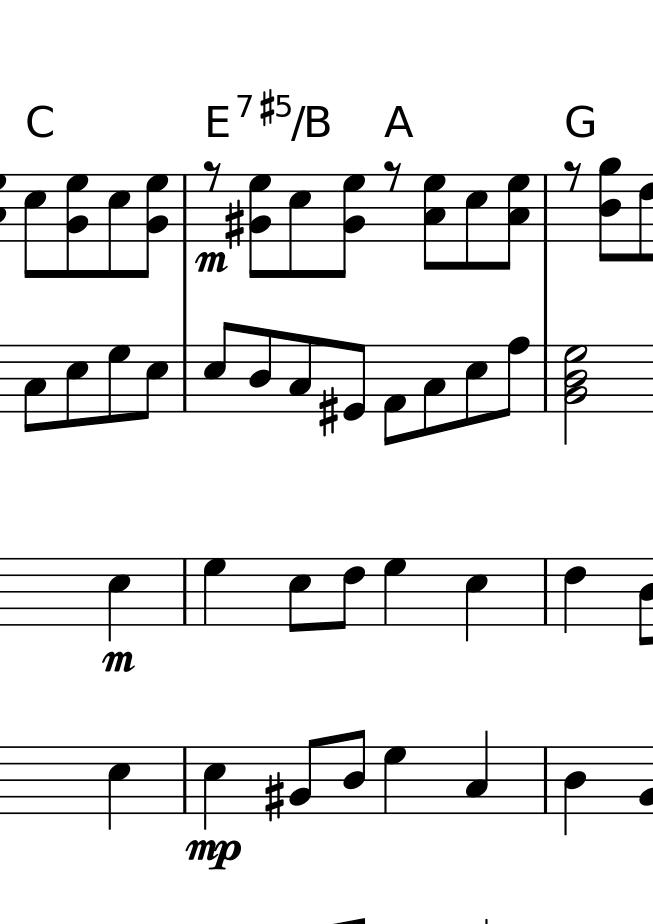4_3: (464, 732, 490, 814)
4_3_7: (497, 172, 530, 269), (423, 174, 447, 271)
4_4: (562, 748, 586, 836)
4_4_9: (598, 157, 623, 264)
4_5: (463, 559, 489, 643), (202, 744, 226, 834), (107, 556, 131, 644), (107, 745, 131, 833)
4_6: (563, 557, 586, 634)
4_7: (381, 745, 407, 816), (201, 558, 227, 627), (382, 556, 407, 627)
8_0: (343, 341, 371, 422)
8_1: (381, 343, 407, 447)
8_2: (289, 738, 322, 814)
8_2_7: (138, 172, 169, 279), (335, 171, 366, 278), (246, 172, 274, 278), (65, 172, 90, 281)
8_3: (421, 344, 446, 437), (22, 345, 47, 433), (287, 333, 312, 414)
8_4: (341, 727, 367, 816), (248, 327, 273, 414)
8_5: (201, 320, 234, 413), (105, 171, 131, 280), (286, 171, 312, 280), (463, 171, 489, 271), (138, 343, 169, 421), (23, 172, 45, 280), (64, 342, 88, 430), (286, 555, 312, 635), (463, 343, 488, 426)
8_6: (335, 558, 367, 631)
8_7: (105, 343, 130, 423)
8_8: (498, 336, 529, 419)
Rests8: (383, 159, 403, 192), (563, 159, 583, 192), (203, 160, 222, 191)
Sharp: (223, 198, 246, 250), (263, 771, 285, 824), (318, 385, 339, 438), (259, 89, 274, 128)
Single_barline: (537, 173, 558, 240), (538, 344, 557, 413), (538, 747, 554, 813), (177, 558, 193, 623), (177, 747, 193, 812), (538, 559, 554, 623), (177, 344, 192, 412), (179, 175, 192, 240)
m: (99, 647, 136, 678), (193, 249, 228, 276)
mp: (182, 836, 243, 875)
